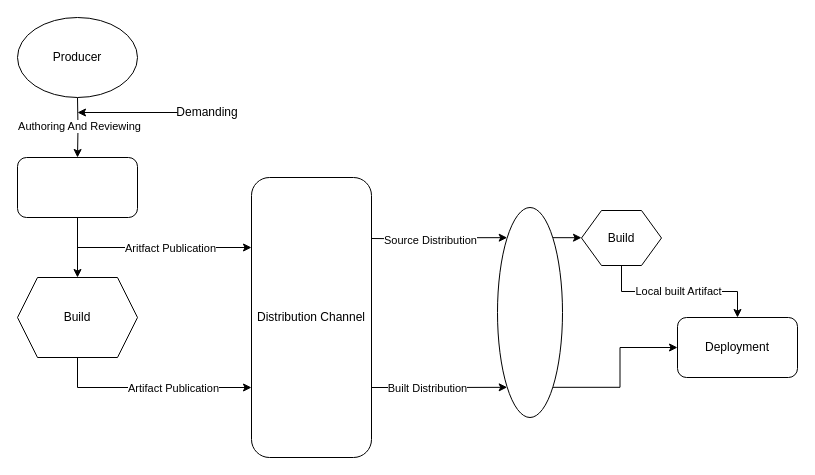
Image size: 815x475. Some labels were removed from this diagram. The shapes that lost their labels are listed below. From the top down, each one's centre as x and y in pixels, then its label:
(x=77, y=187): Source Code Management
(x=529, y=312): Consumer
